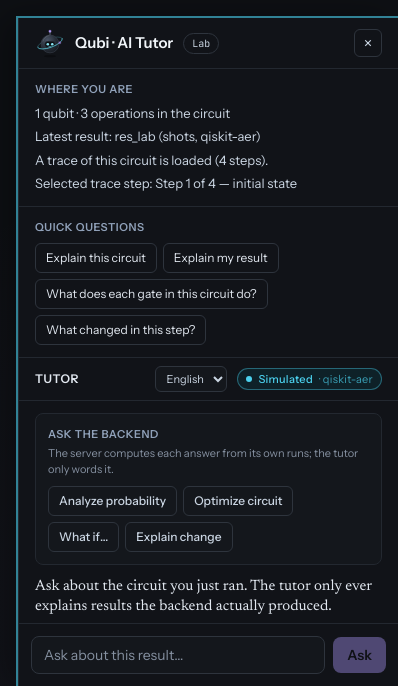
Scenario: the request carries the selected step’s identity › the answer states which step it was about and where the step’s record came from
Click the button "What changed in this step?": coordinates (121, 330) [35, 315, 206, 345]
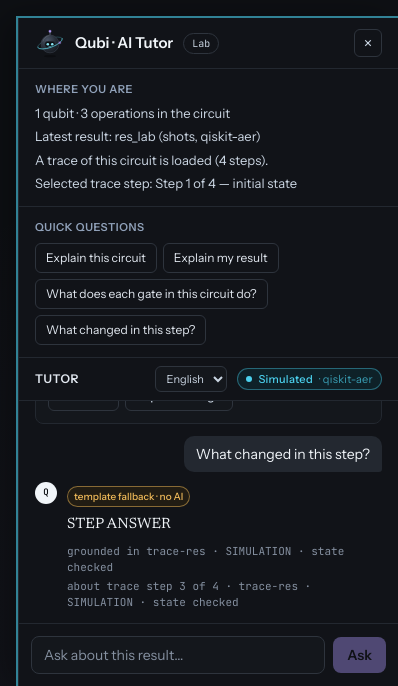
Expected: the text "about trace step 3 of 4 · trace-res · SIMULATION · state checked" is shown, [67, 579, 311, 609]
